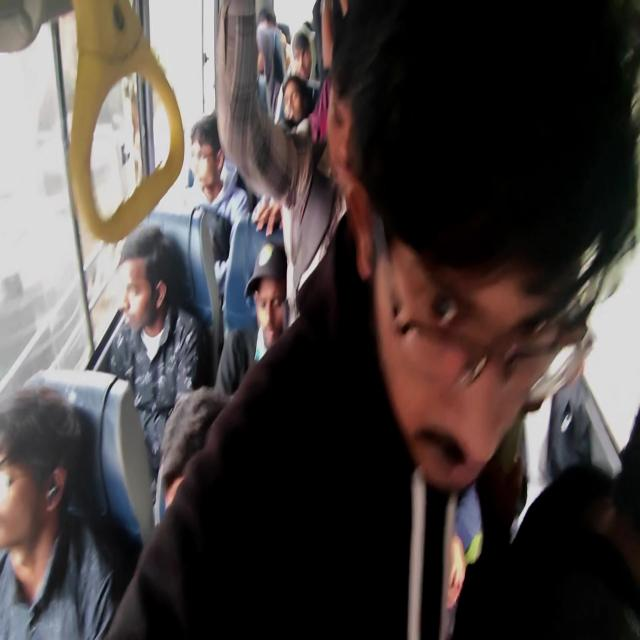person: (342, 64, 640, 583), (0, 408, 90, 608), (150, 390, 236, 581), (112, 255, 176, 338), (188, 133, 235, 230), (335, 50, 370, 176), (244, 252, 288, 340), (278, 89, 312, 147), (260, 10, 280, 71), (297, 34, 313, 88)
